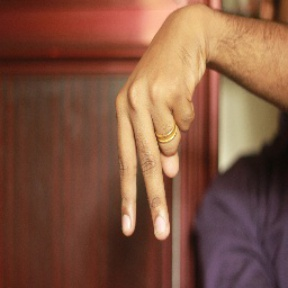Y: (105, 45, 202, 245)
